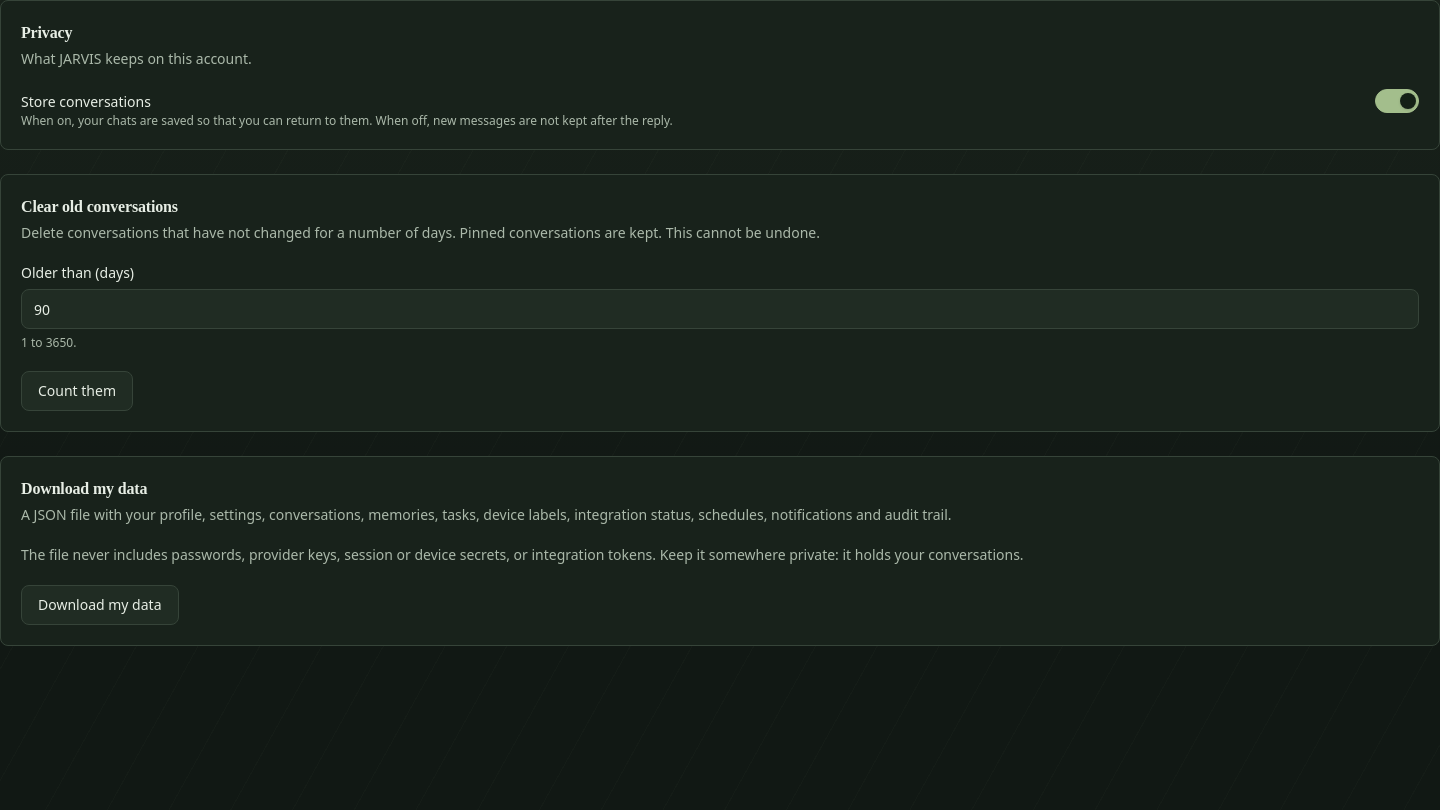
Test: clear old conversations › offers no delete when nothing is old enough
Click the button "Count them" at (77, 391), box x1=21 y1=371 x2=133 y2=411
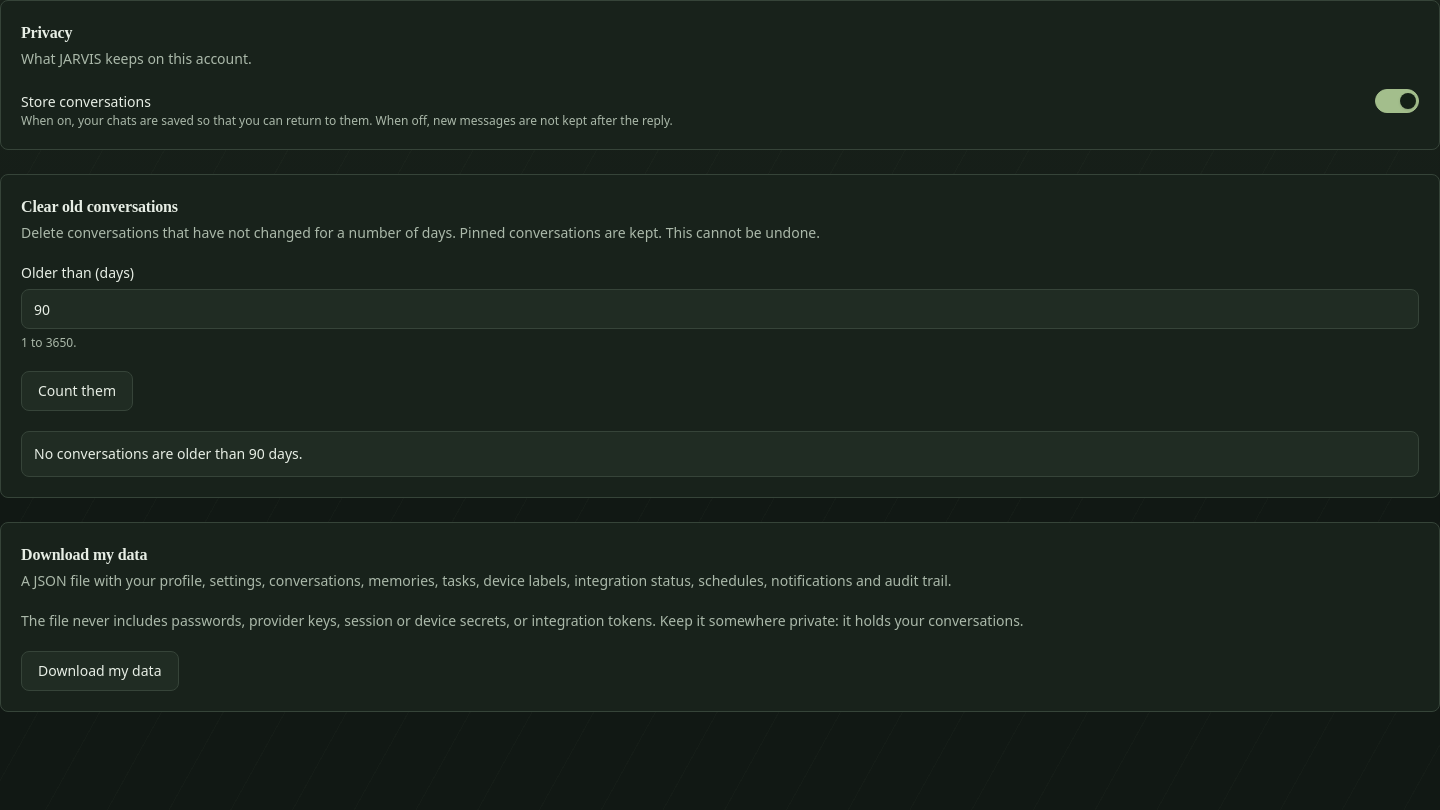
Result: the text "No conversations are older than 90 days." is shown at x1=34 y1=444 x2=303 y2=463
